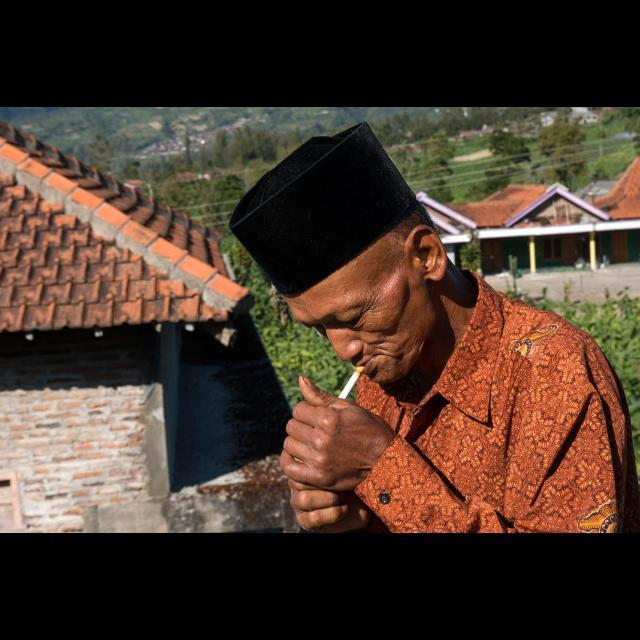rokok: (331, 364, 371, 406)
